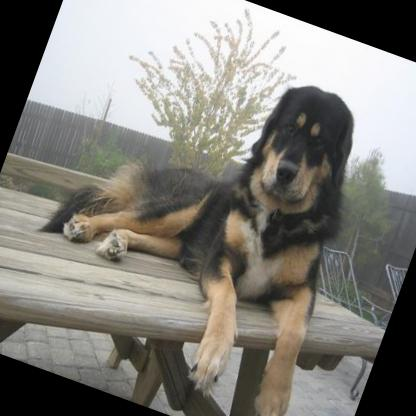Tibetan_mastiff: (0, 15, 395, 416)
